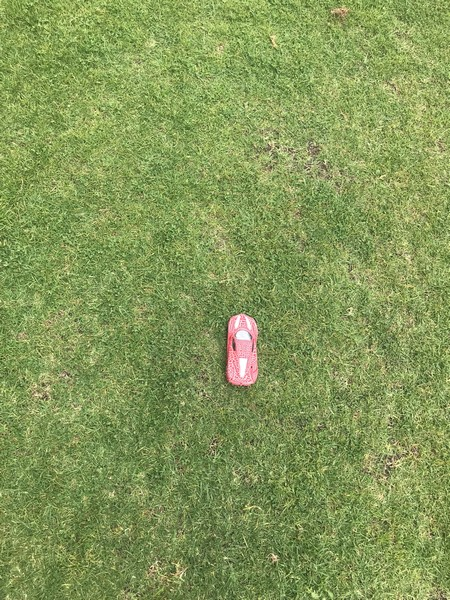RC: (225, 313, 262, 387)
